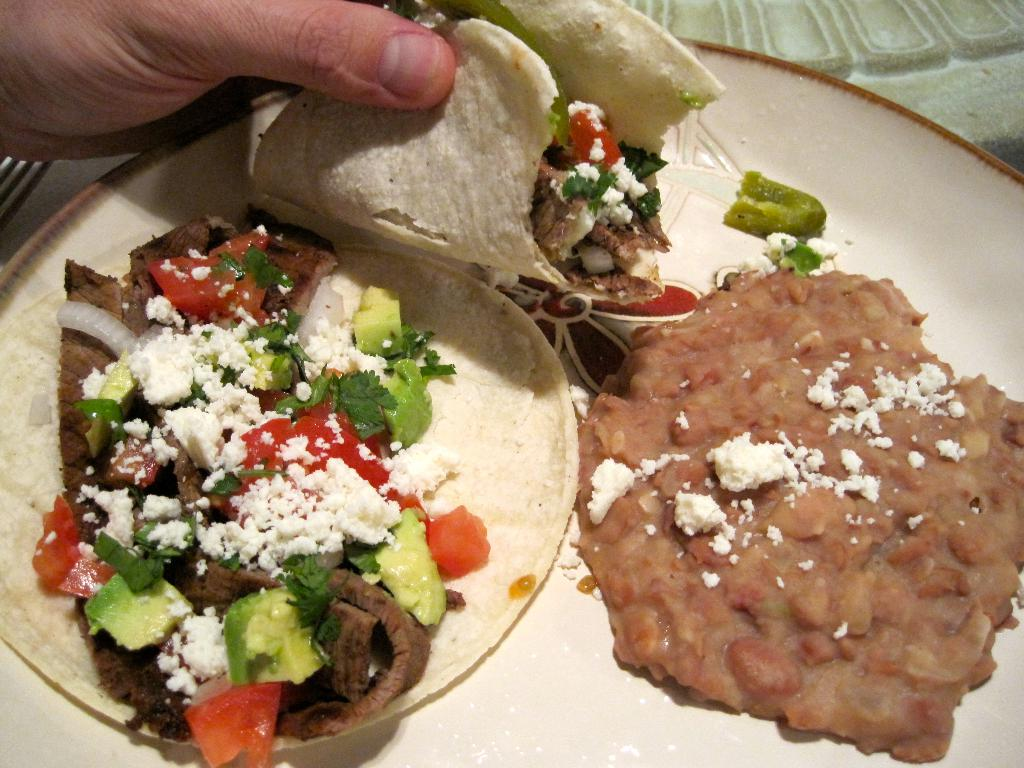taco: (0, 170, 592, 768), (248, 0, 730, 301)
